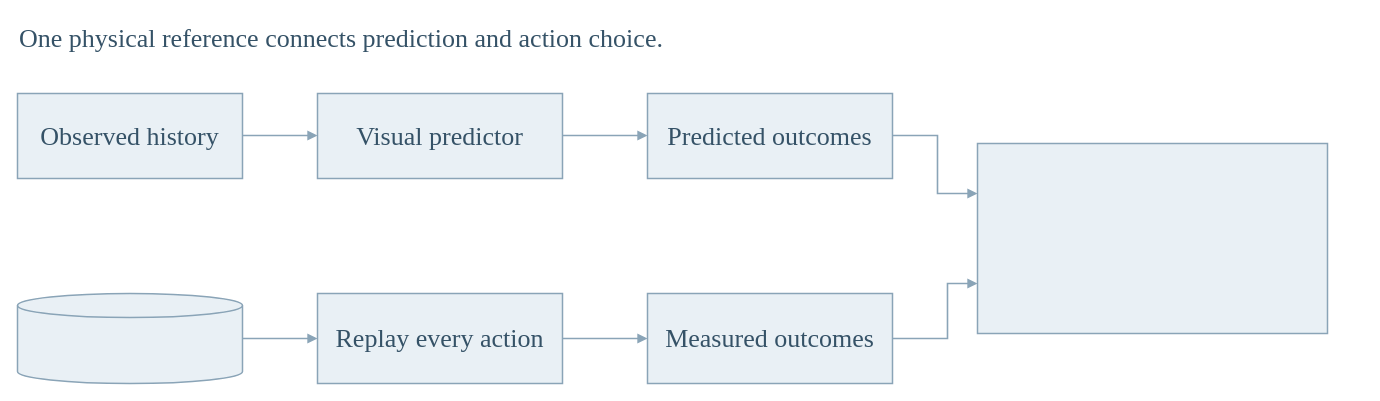
This 1380x401 diagram has some shape labels left out. The shapes that lost their labels are listed below. From the top down, each one's centre as x and y in pixels, then its label:
At (1152,238): "Linked evaluation State targets All action outcomes Resulting decision".
At (129,338): "Saved state".
